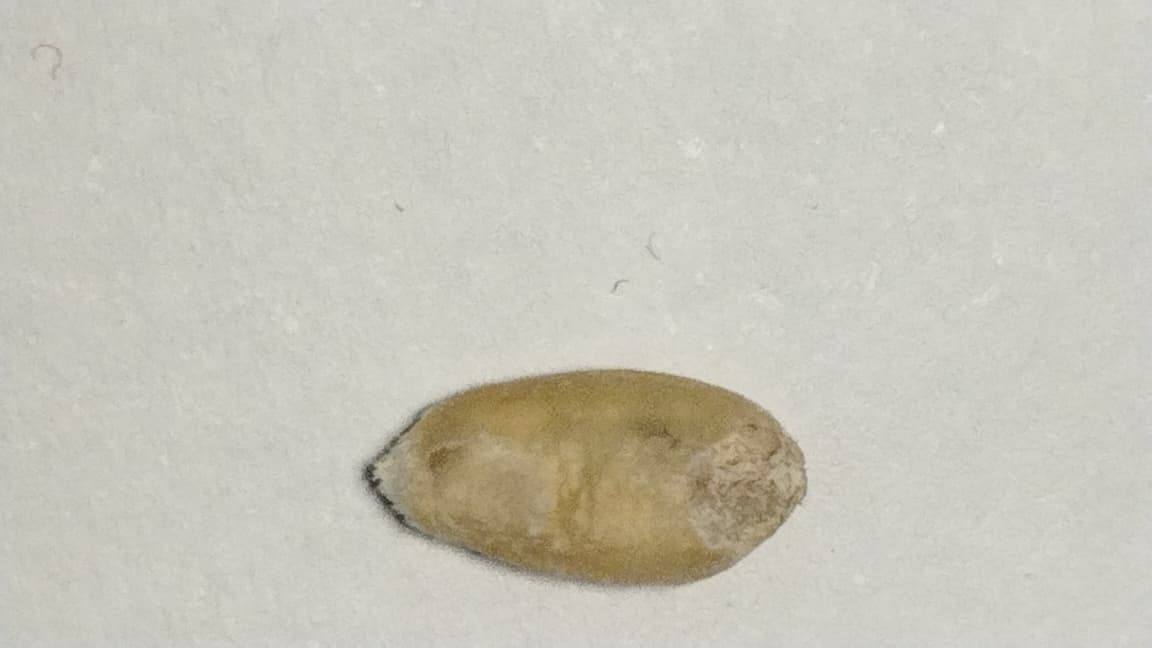damage: (372, 369, 805, 582)
insectdamage: (422, 411, 579, 557), (686, 390, 806, 559)
